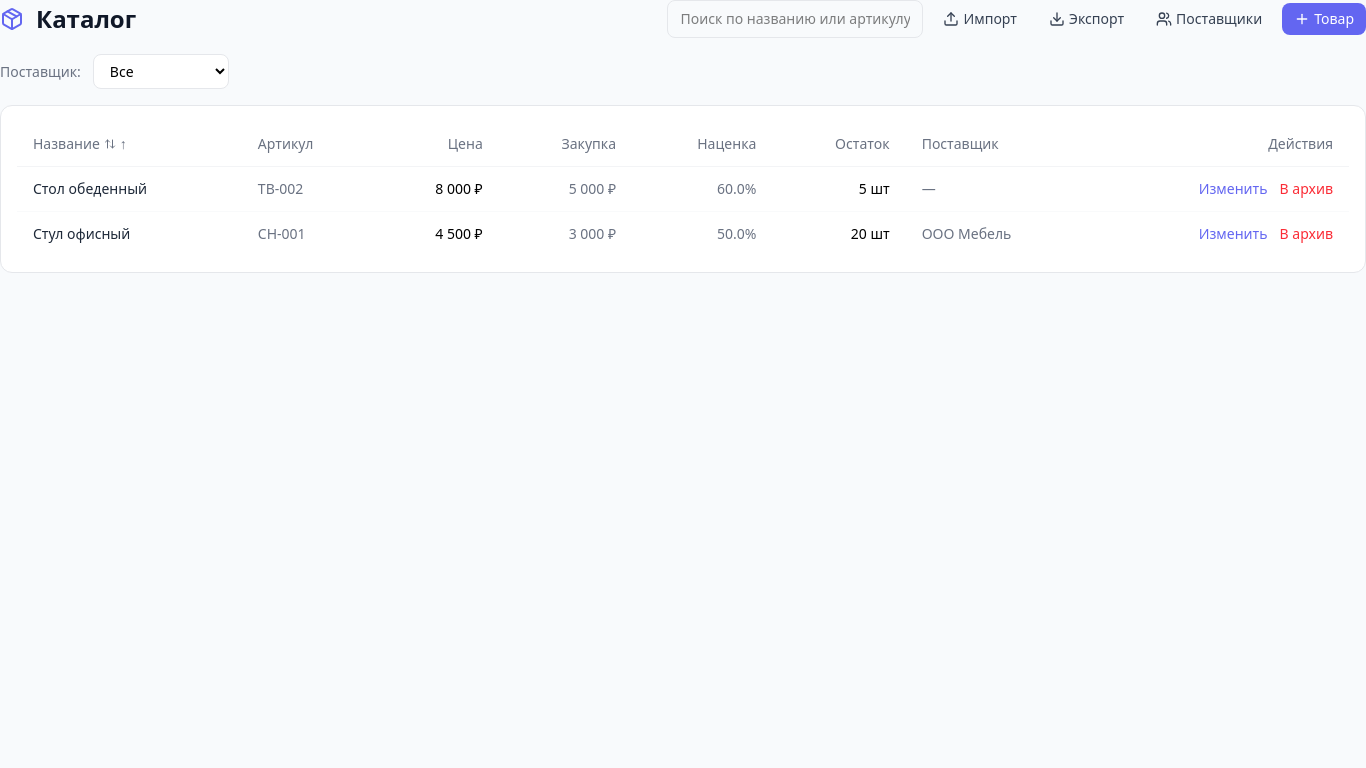
Products page › creates a product from the form
This screenshot has width=1366, height=768.
expect the text "Стул офисный" is shown: met, box [17, 212, 242, 256]
Click the button "Товар": (1324, 19) [1282, 3, 1365, 35]
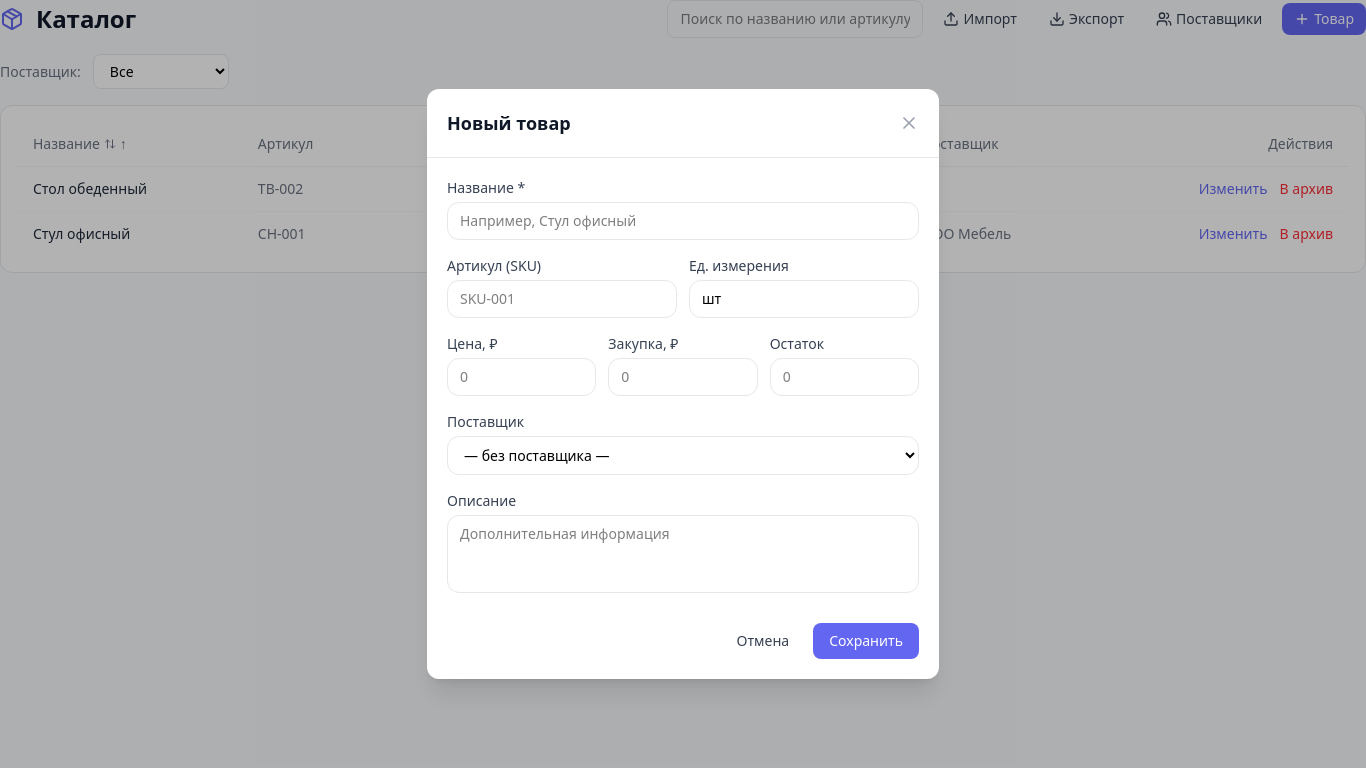
expect the heading "Новый товар" is shown: met, box [447, 109, 571, 137]
In the field labelled "Название *": (683, 221) [447, 202, 919, 240], type "Тестовый стул"
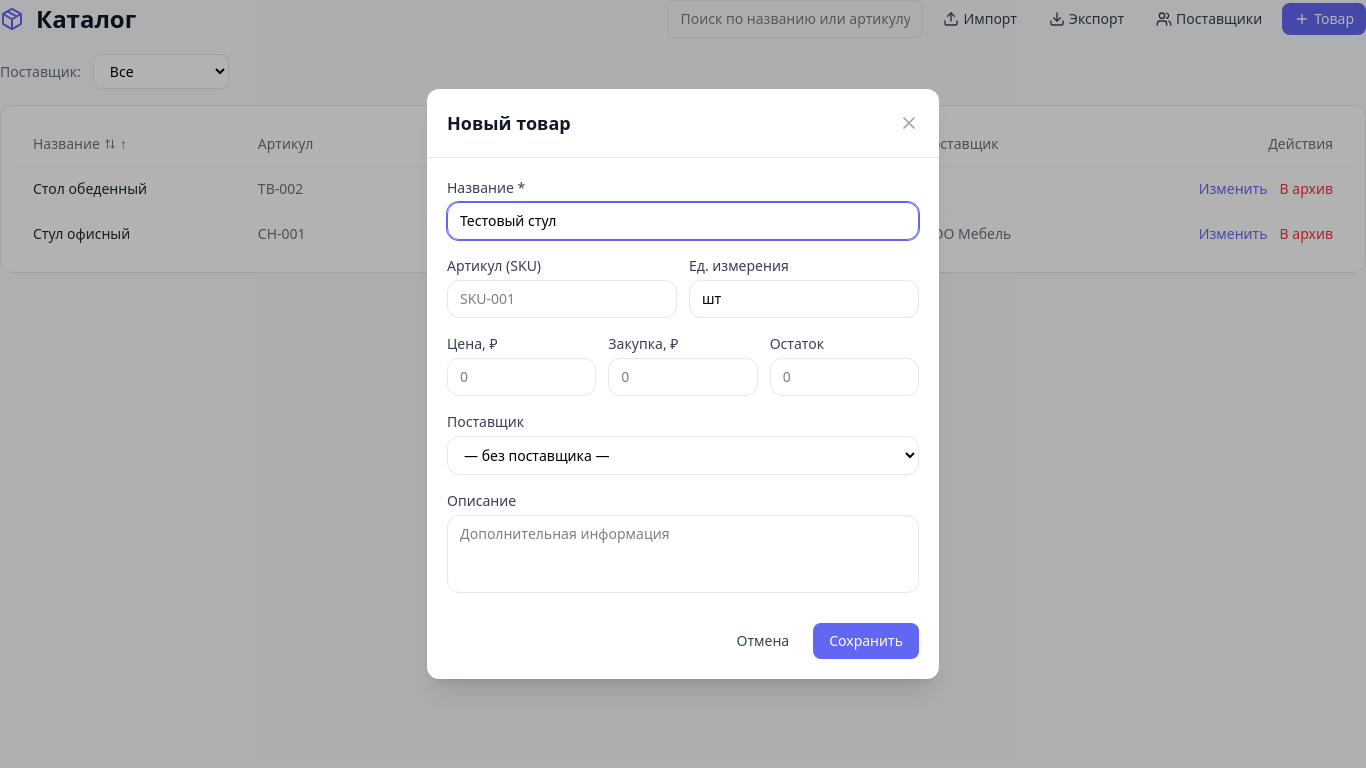
Click the button "Сохранить": (866, 641) [813, 623, 919, 659]
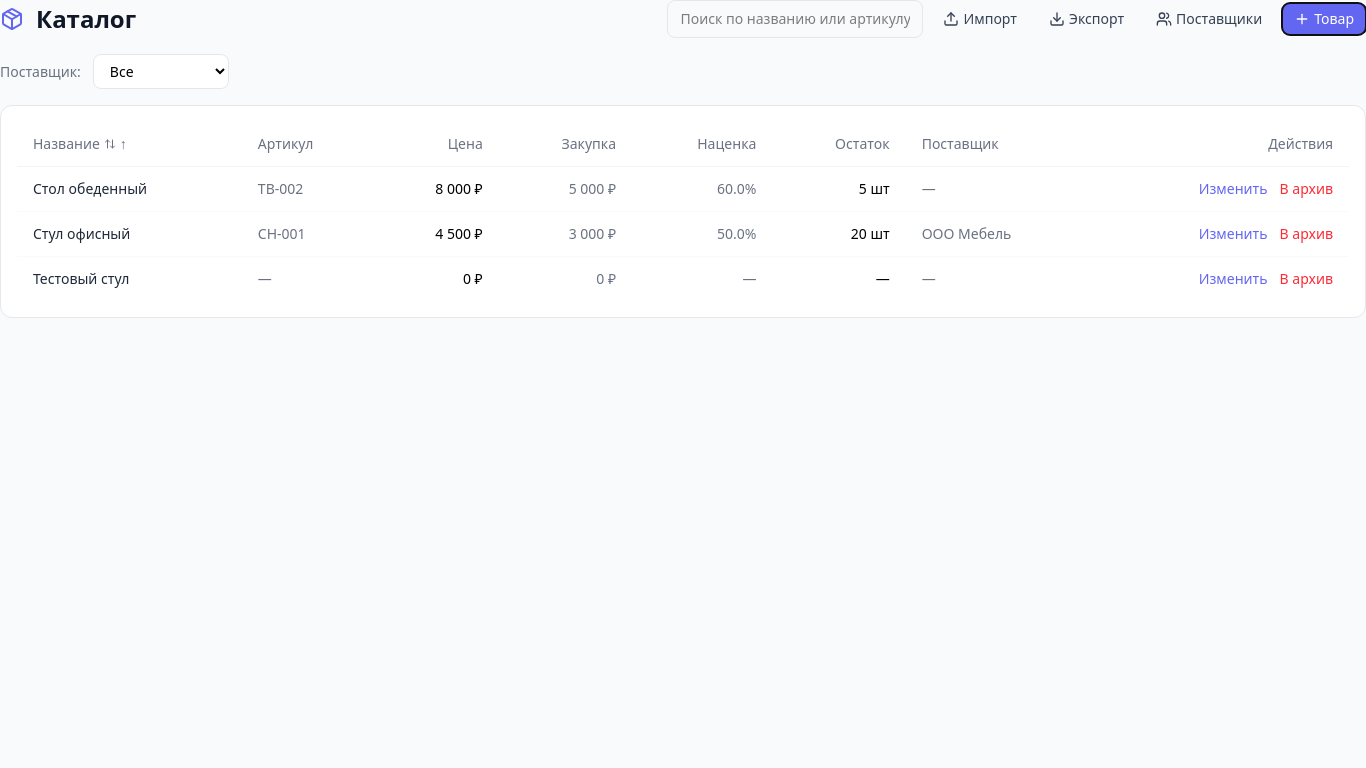
expect the text "Тестовый стул" is shown: met, box [17, 256, 242, 301]
